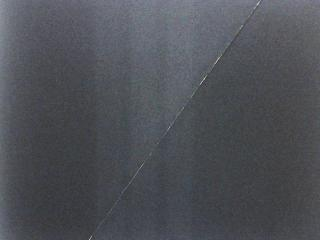crack: (86, 0, 264, 240)
